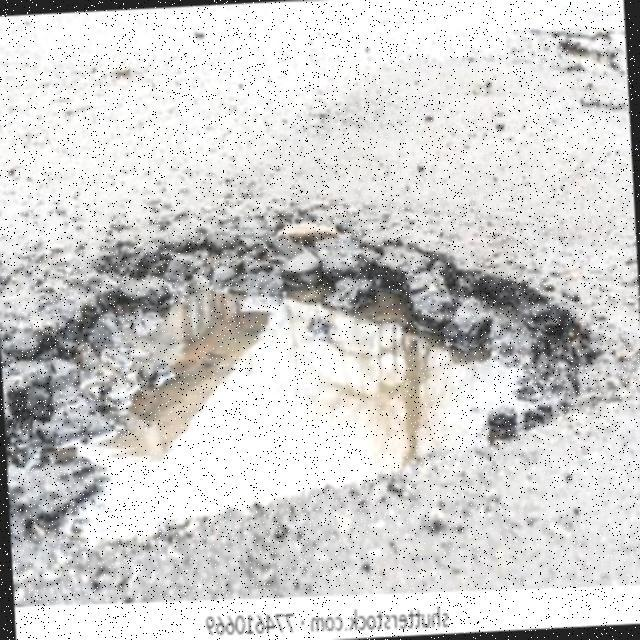Pothole: (3, 226, 588, 568)
